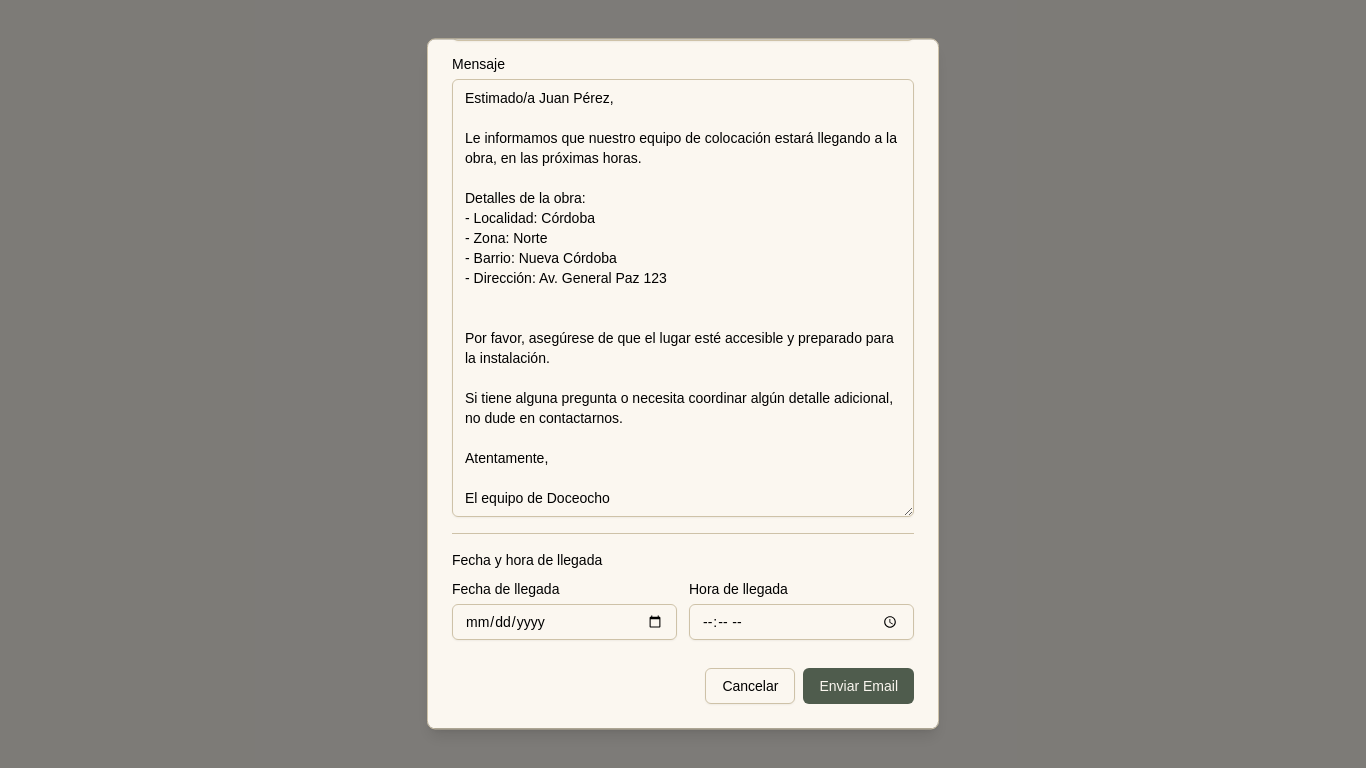
EmailNotificationModal › displays error when send fails
(page scrolled)
Click the button "Enviar Email" at (859, 686), box [803,668,914,704]
(page scrolled)
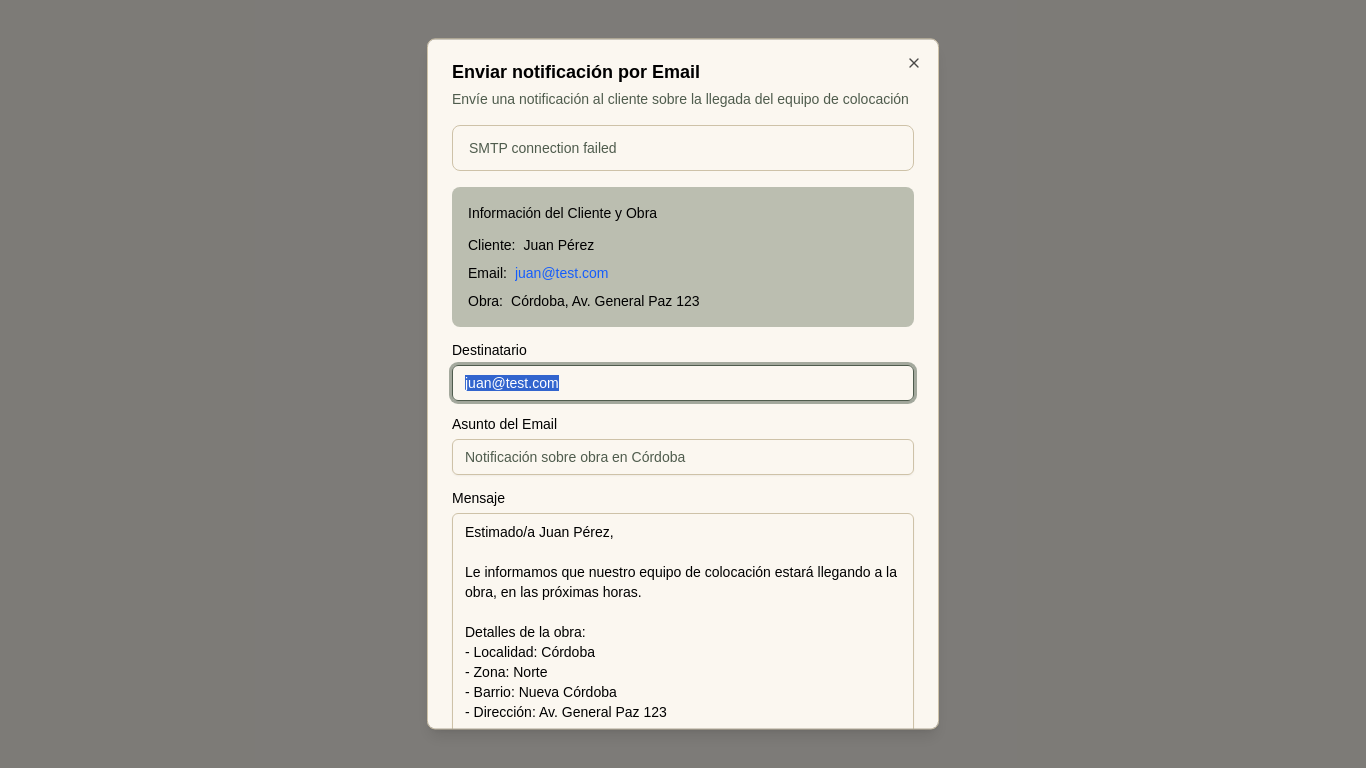
Expected: the text "SMTP connection failed" is shown, [469,140,617,156]
